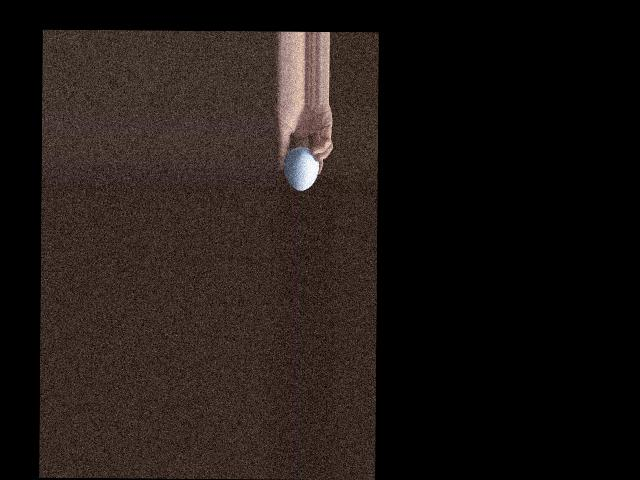egg: (284, 146, 319, 191)
